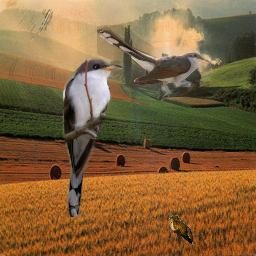Cuckoo: (61, 57, 123, 217), (97, 25, 214, 100), (168, 215, 193, 245)
